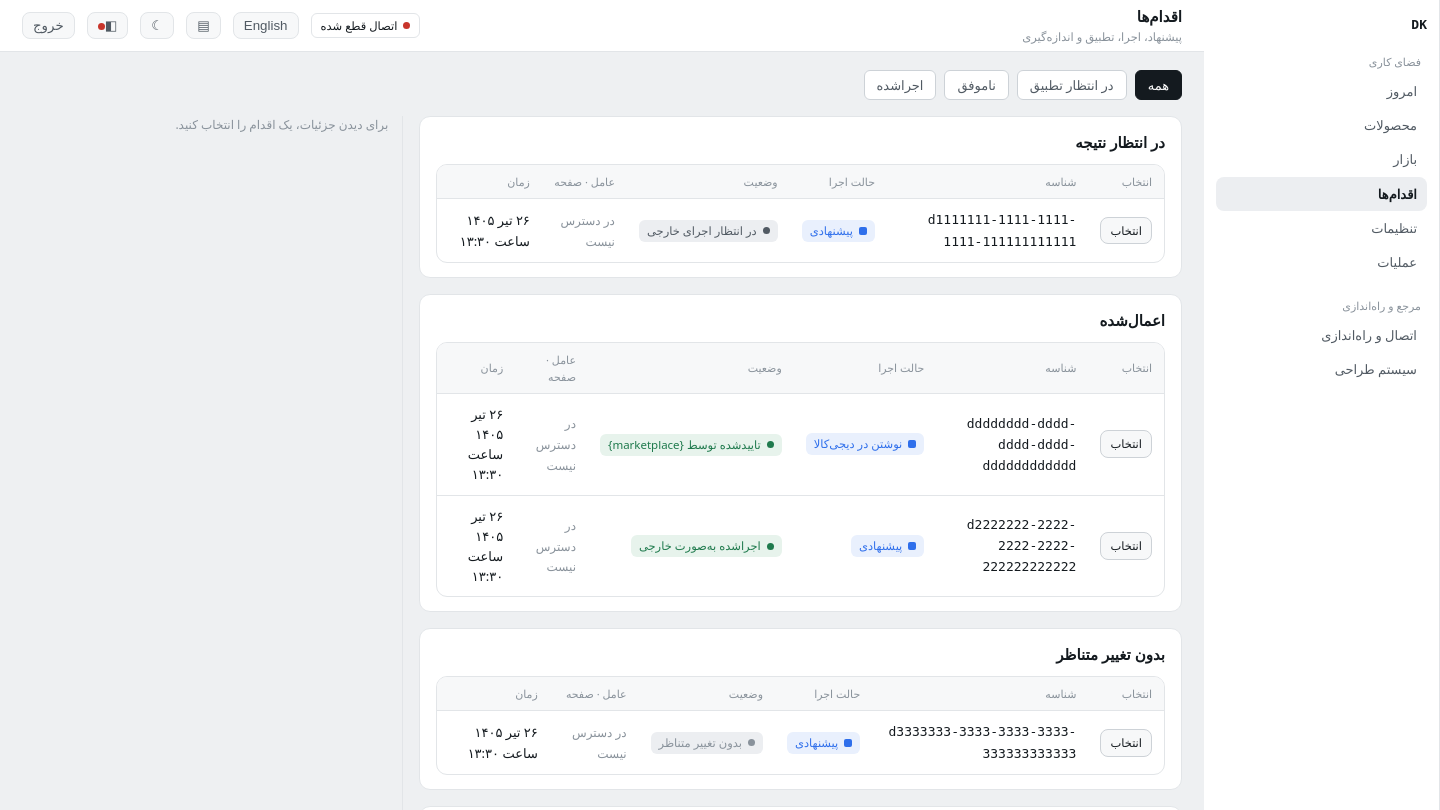
Test case: Actions — multi-mode queue discovery (issue #106) › keeps a Lapsed action free of any execution claim (EXE-005, AUD-001)
Click the button "انتخاب" next to "d3333333-3333-3333-3333-333333333333" at (1126, 743), box [1100,729,1152,756]
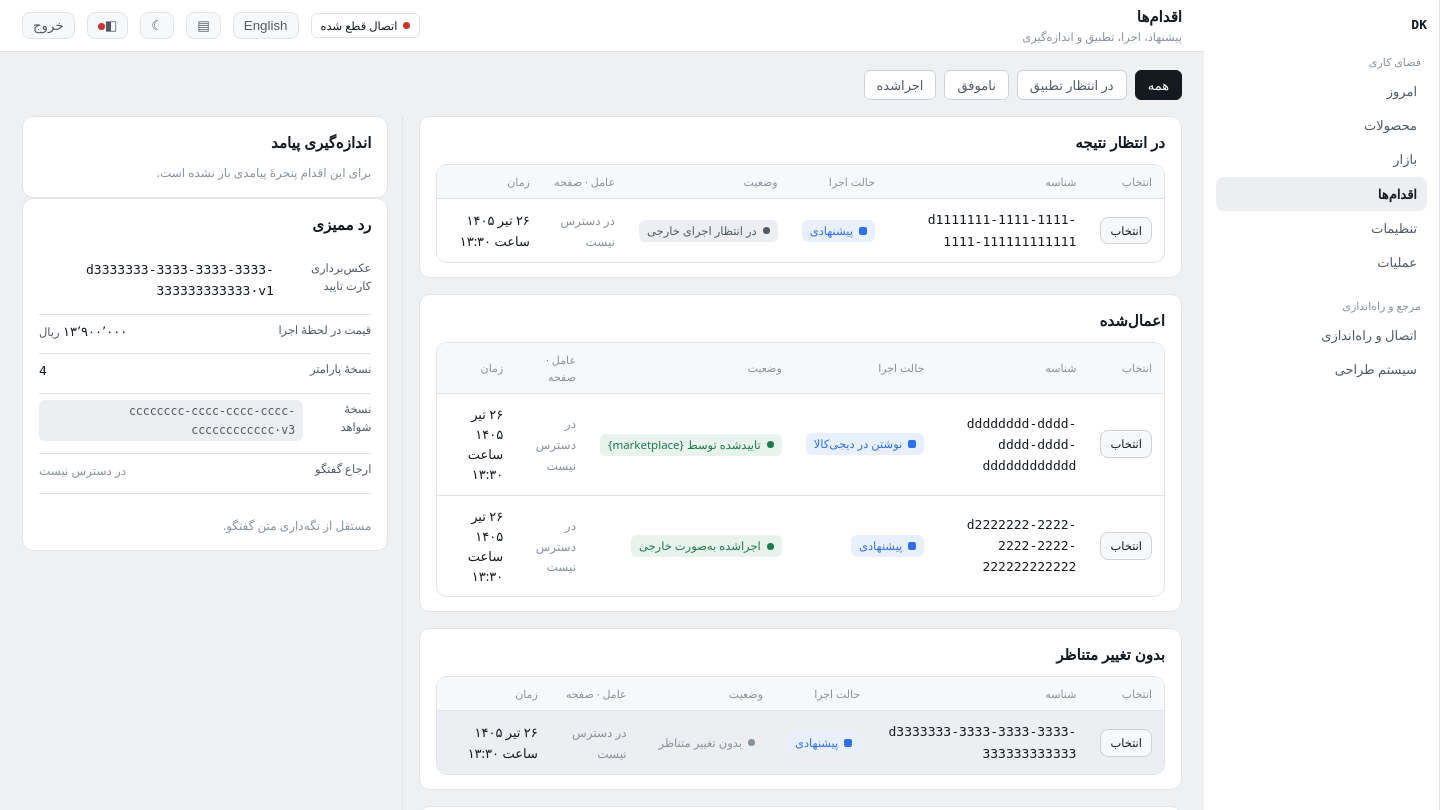
Result: the text with test id "outcome-none" reads "برای این اقدام پنجرهٔ پیامدی باز نشده است." at [157,164,371,181]
